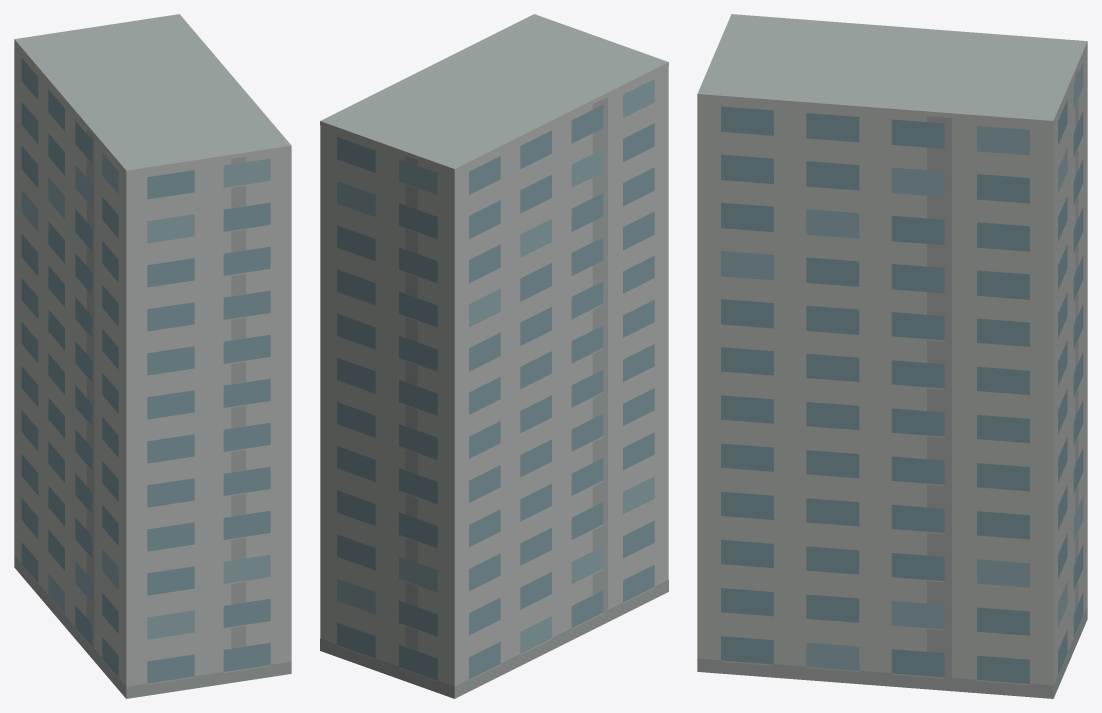
Rendered from residential-2d3795f4-7189-4a8a-a4a8-6f6eaa6efe34.glb.
The picture shows the model from 3 angles, left to right: view 1: azimuth 30°, elevation 25°; view 2: azimuth 150°, elevation 25°; view 3: azimuth 270°, elevation 25°; orthographic projection. The views are drawn at different scales.
Visible parts, largest first — view 1: residential-2d3795f4-7189-4a8a-a4a8-6f6eaa6efe34.tmp; view 2: residential-2d3795f4-7189-4a8a-a4a8-6f6eaa6efe34.tmp; view 3: residential-2d3795f4-7189-4a8a-a4a8-6f6eaa6efe34.tmp.
Boxes of the visible parts, bbox=[...] form: residential-2d3795f4-7189-4a8a-a4a8-6f6eaa6efe34.tmp: bbox=[14, 14, 291, 698]; residential-2d3795f4-7189-4a8a-a4a8-6f6eaa6efe34.tmp: bbox=[320, 14, 668, 698]; residential-2d3795f4-7189-4a8a-a4a8-6f6eaa6efe34.tmp: bbox=[697, 14, 1087, 698].
Size of the model in its own units: 11.92 by 30 by 18.37.
